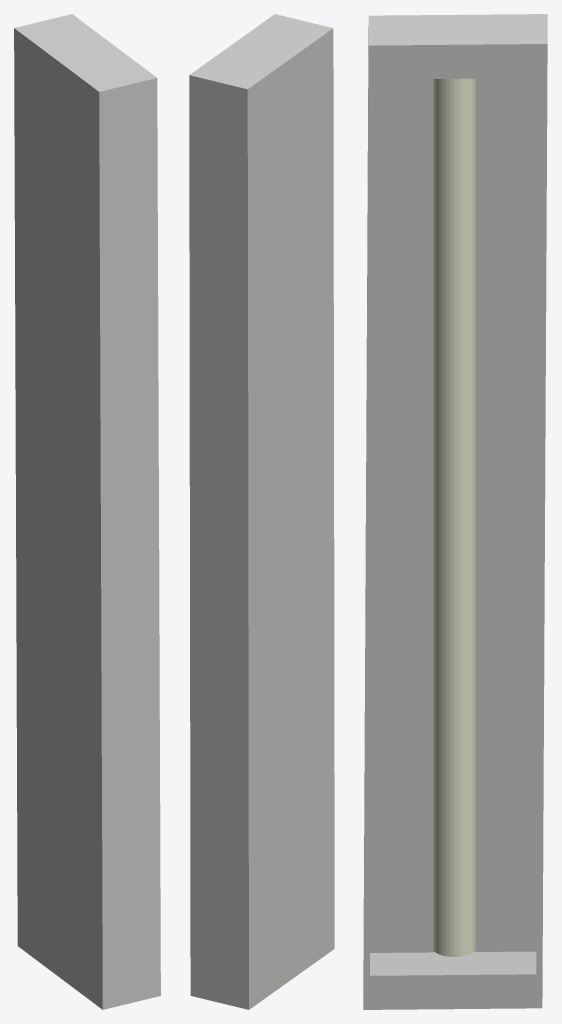
The model's file is single_lights.fbx.
The picture shows the model from 3 angles, left to right: view 1: azimuth 30°, elevation 25°; view 2: azimuth 150°, elevation 25°; view 3: azimuth 270°, elevation 25°; orthographic projection. The views are drawn at different scales.
Visible parts, largest first — view 1: Plane.002; view 2: Plane.002; view 3: Plane.002.
Boxes of the visible parts, x1,y1,x2,y2 form: Plane.002: [14, 14, 160, 1009]; Plane.002: [189, 14, 334, 1009]; Plane.002: [363, 14, 547, 1009].
Bounding box in the file's own units: 61.33 × 908 × 157.
